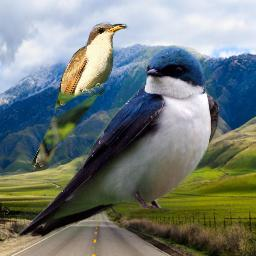Cuckoo: (28, 20, 129, 173)
Swallow: (17, 45, 219, 240)
